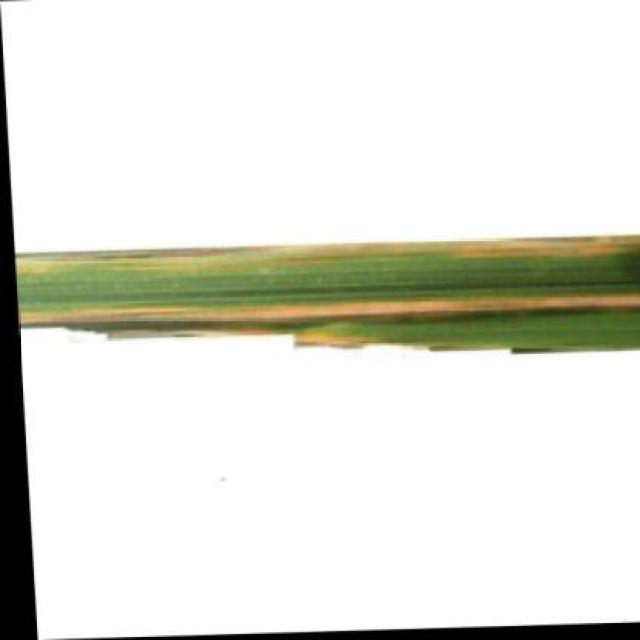Brown_Spot: (11, 231, 640, 374)
